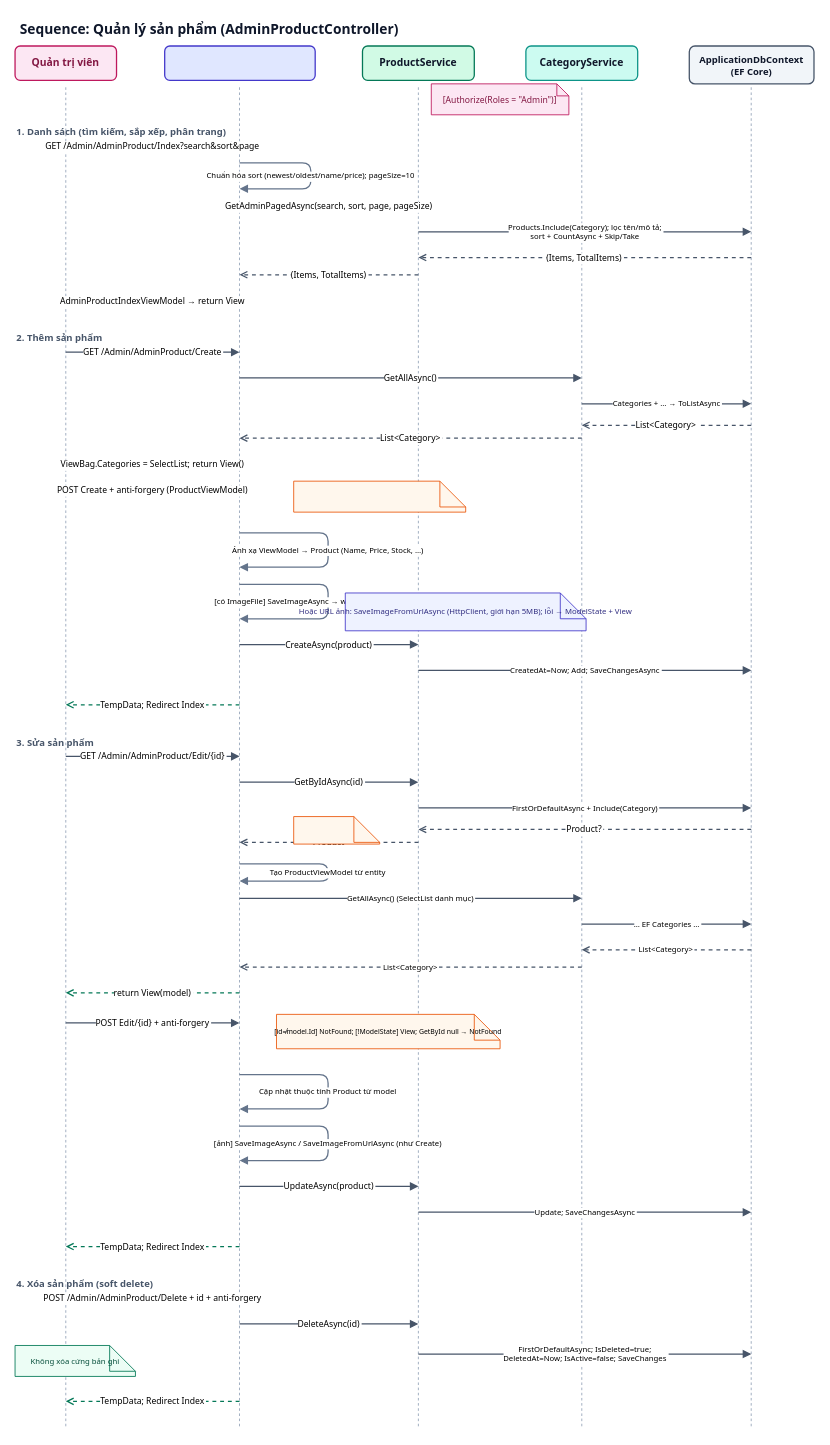
This 830x1445 diagram has some shape labels left out. Each missing label, with the centre of its shape:
[!ModelState] GetAllAsync → View(model): (x=379, y=496)
[null] NotFound(): (x=336, y=830)
AdminProductController: (x=239, y=63)
